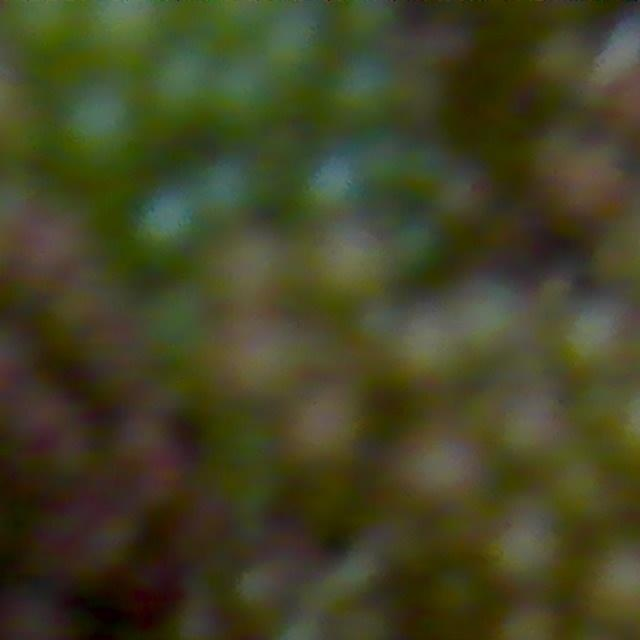SeaGrape: (20, 491, 138, 594), (0, 391, 80, 489), (57, 82, 144, 171), (397, 428, 486, 512), (485, 499, 569, 588), (450, 276, 529, 360), (308, 225, 392, 304), (206, 52, 286, 131), (327, 47, 405, 126), (558, 297, 635, 377), (211, 231, 289, 309), (111, 438, 185, 519), (147, 44, 220, 124), (80, 0, 173, 62), (255, 3, 329, 79), (497, 387, 566, 460), (297, 148, 368, 218), (195, 154, 266, 223), (134, 187, 199, 259), (585, 538, 640, 623), (19, 225, 78, 304), (0, 0, 81, 54), (554, 457, 616, 523), (383, 212, 444, 275), (426, 567, 483, 625), (201, 0, 276, 41), (338, 0, 400, 45), (330, 599, 395, 640)
